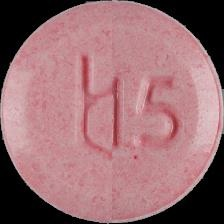0555-0715: (0, 0, 224, 224)
